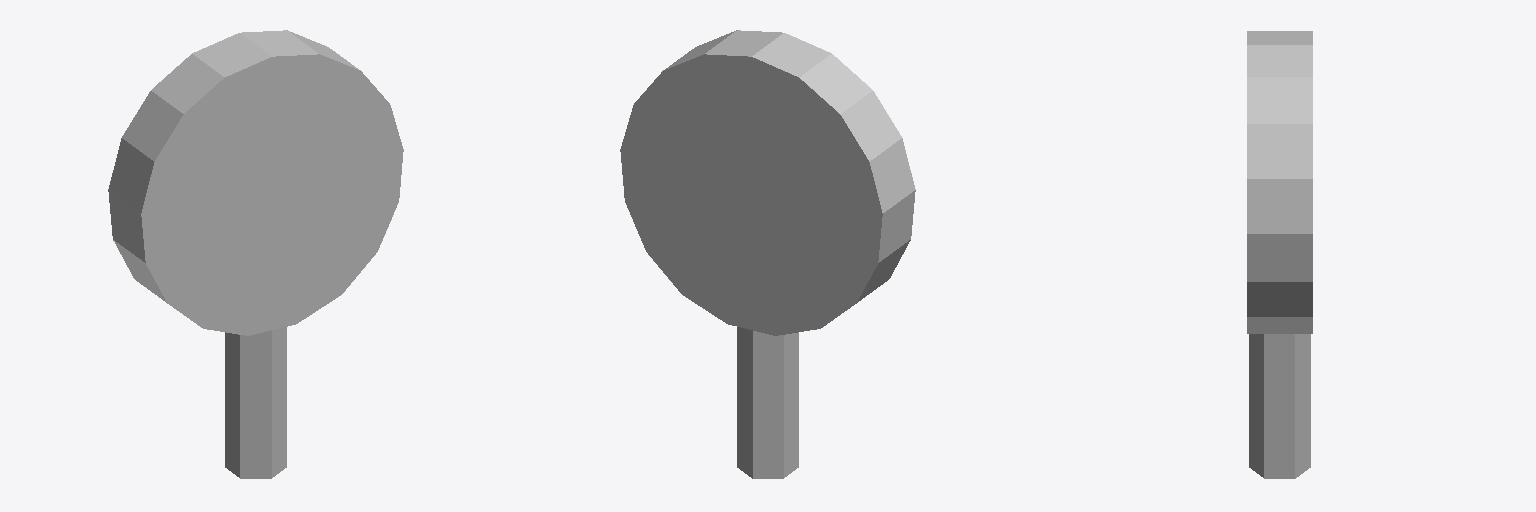
Rendered from temperature_sensor.obj.
The picture shows the model from 3 angles: view 1: azimuth 30°, elevation 25°; view 2: azimuth 150°, elevation 25°; view 3: azimuth 270°, elevation 25°; orthographic projection.
Visible parts, largest first — view 1: __.1, __; view 2: __, __.1; view 3: __.1, __.
Part boxes in pixels (x1,y1,x2,y2): __.1: (108,30,403,335); __: (225,327,286,478); __: (654,90,848,478); __.1: (620,30,915,335); __.1: (1247,31,1312,333); __: (1249,334,1310,478).
Size of the model in its own units: 98.23 by 151 by 21.32.